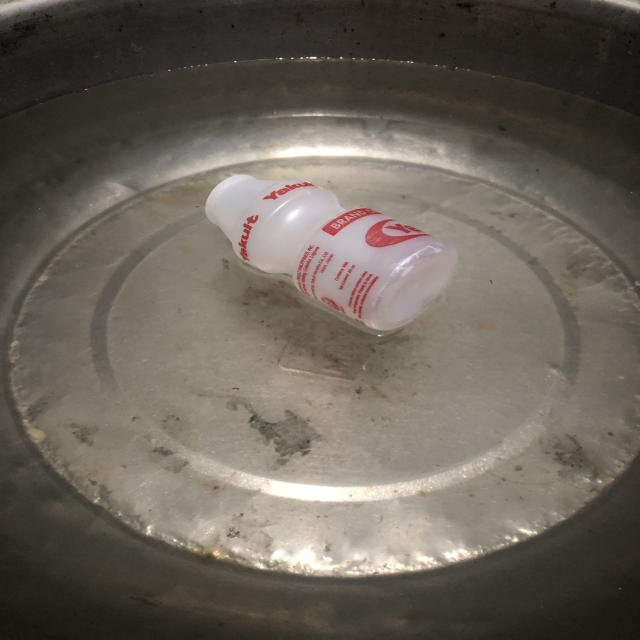Plastic Bottle: (173, 148, 508, 364)
